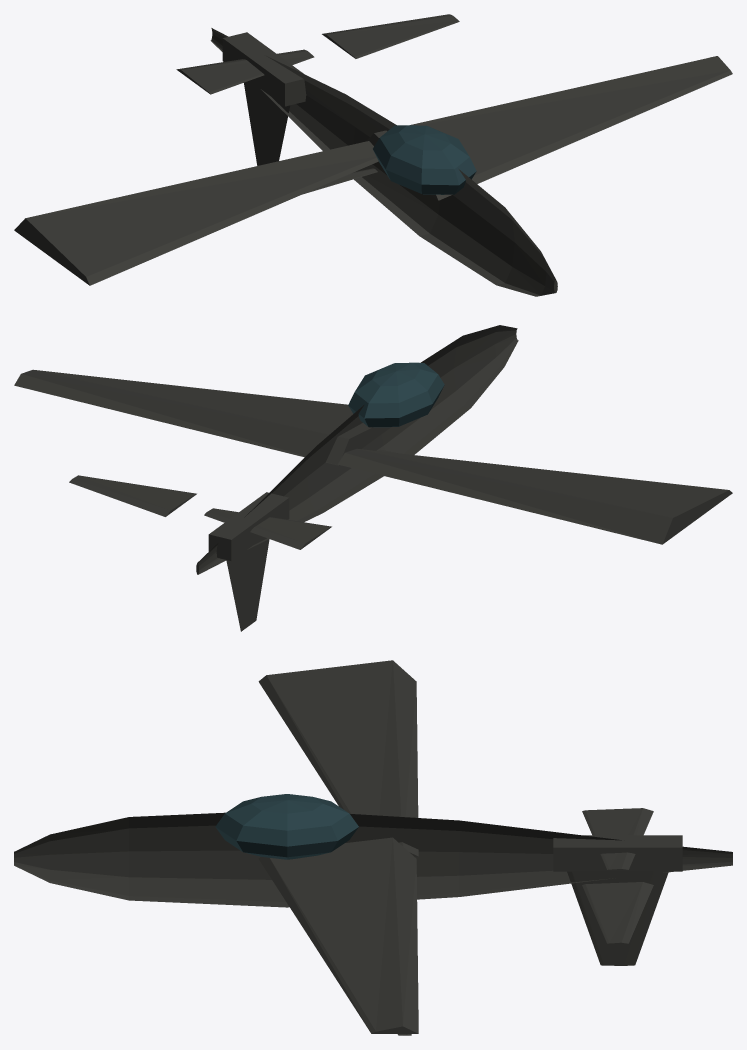
Rendered from spitfire_Destroyed.glb.
The picture shows the model from 3 angles, top to bottom: view 1: azimuth 30°, elevation 25°; view 2: azimuth 150°, elevation 25°; view 3: azimuth 270°, elevation 25°; orthographic projection. The views are drawn at different scales.
Visible parts, largest first — view 1: Wing_L, Fuselage, Wing_R, Cockpit, TailBoom, Elevator_R, Rudder, Elevator_L; view 2: Wing_L, Wing_R, Fuselage, Cockpit, TailBoom, Rudder, Elevator_R, Elevator_L; view 3: Fuselage, Wing_R, Wing_L, Cockpit, TailBoom, Rudder, Elevator_R, Elevator_L.
Part boxes in pixels (box(x1,y1,x2,y2)): Wing_L: box(14, 141, 378, 285); Fuselage: box(210, 28, 557, 296); Wing_R: box(367, 56, 732, 200); Cockpit: box(373, 125, 476, 194); TailBoom: box(222, 32, 306, 106); Elevator_R: box(322, 14, 459, 58); Rudder: box(244, 80, 290, 165); Elevator_L: box(176, 49, 314, 94); Wing_L: box(338, 448, 732, 544); Wing_R: box(14, 369, 390, 465); Fuselage: box(196, 325, 518, 574); Cockpit: box(348, 362, 444, 427); TailBoom: box(208, 492, 289, 561); Rudder: box(226, 537, 269, 631); Elevator_R: box(69, 475, 196, 516); Elevator_L: box(204, 508, 331, 549); Fuselage: box(14, 812, 732, 907); Wing_R: box(258, 837, 418, 1033); Wing_L: box(258, 660, 418, 856); Cockpit: box(215, 794, 358, 859); TailBoom: box(553, 835, 682, 871); Rudder: box(567, 871, 668, 965); Elevator_R: box(582, 882, 653, 943); Elevator_L: box(582, 808, 653, 869).
Bounding box in the file's own units: 10.85 × 2.36 × 9.3.
